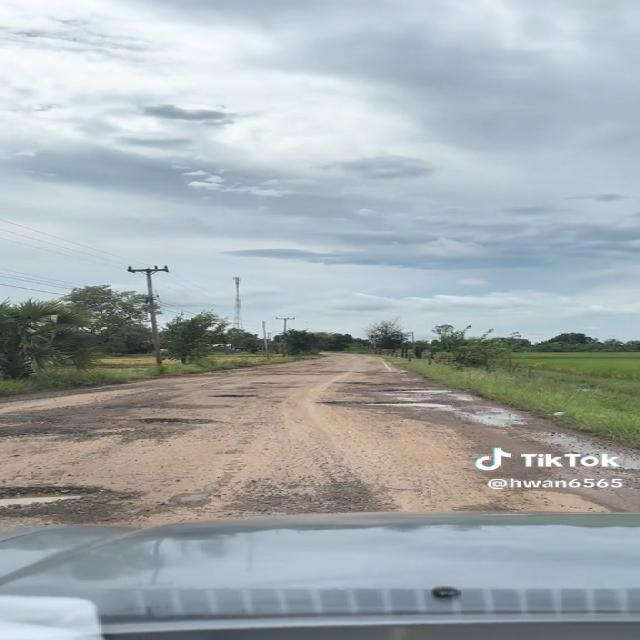Poth-hole: (176, 448, 340, 503)
